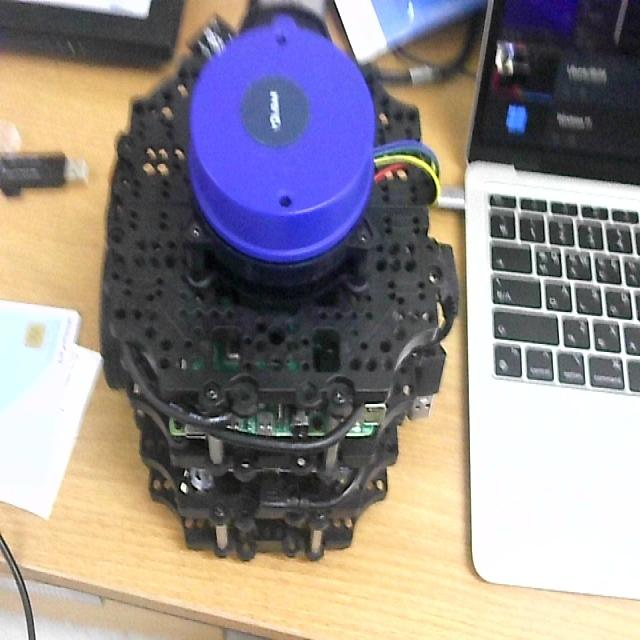turtle: (97, 7, 460, 565)
